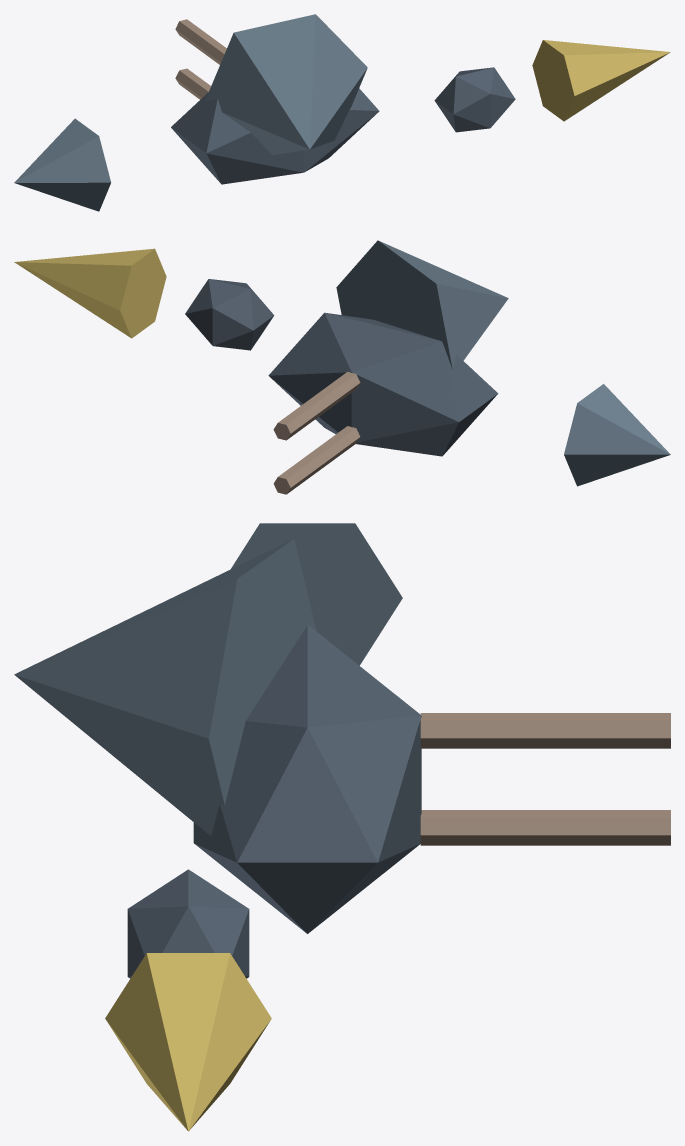
Rendered from toucan.glb.
The picture shows the model from 3 angles, top to bottom: view 1: azimuth 30°, elevation 25°; view 2: azimuth 150°, elevation 25°; view 3: azimuth 270°, elevation 25°; orthographic projection. The views are drawn at different scales.
Visible parts, largest first — view 1: world; view 2: world; view 3: world.
Boxes of the visible parts, <box> form: world: <box>14,14,670,211</box>; world: <box>14,240,670,494</box>; world: <box>14,523,670,1131</box>.
Bounding box in the file's own units: 2.4 × 0.603 × 1.1.
